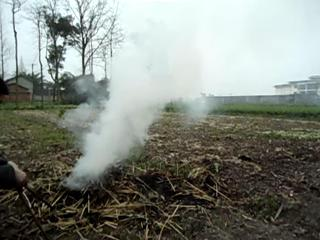yanwu: (61, 24, 207, 189)
